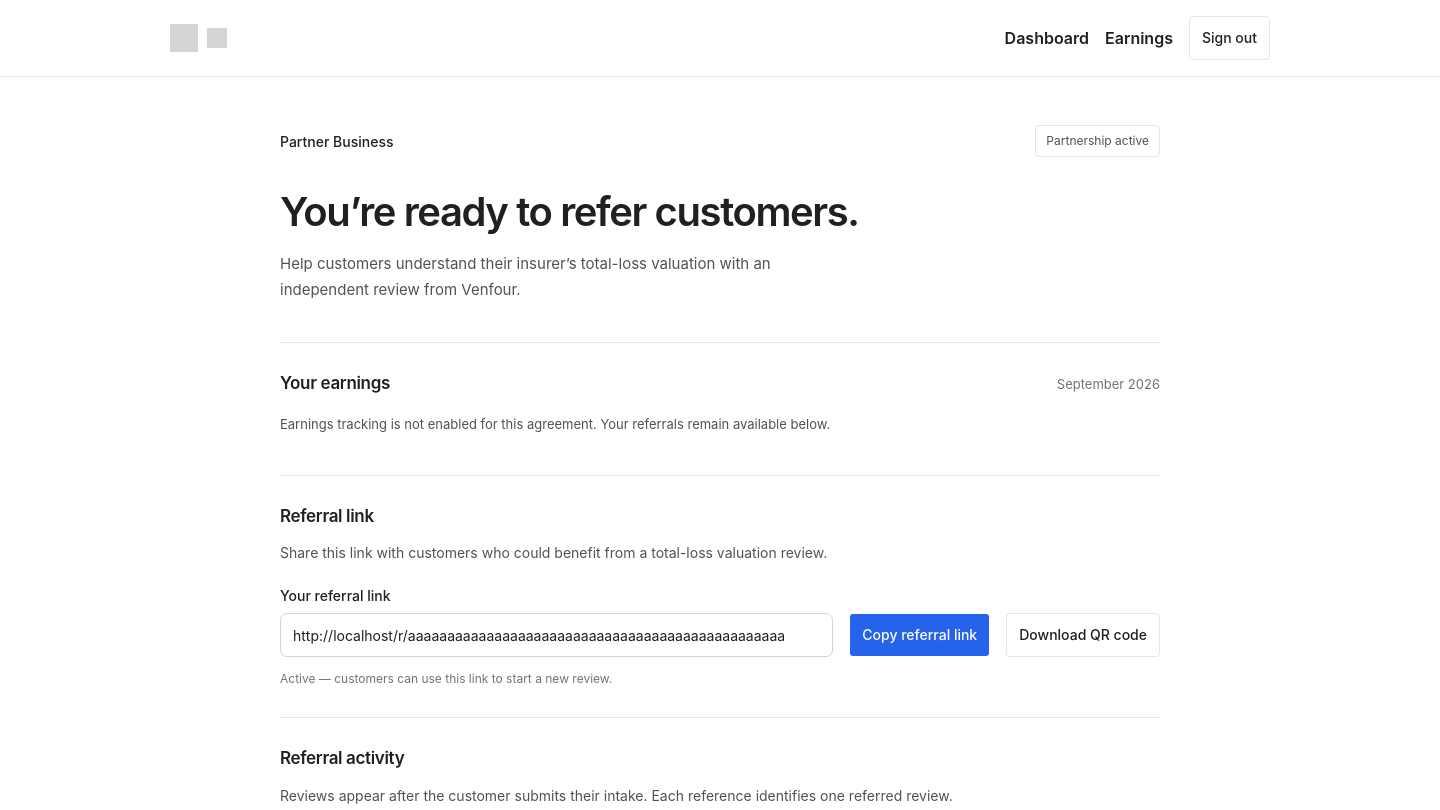
Test: partner referral dashboards › shows a copyable stable link and only opaque submitted referral information
Click the button "Copy referral link".
click(920, 635)  # box [849,613,990,657]
(page scrolled)
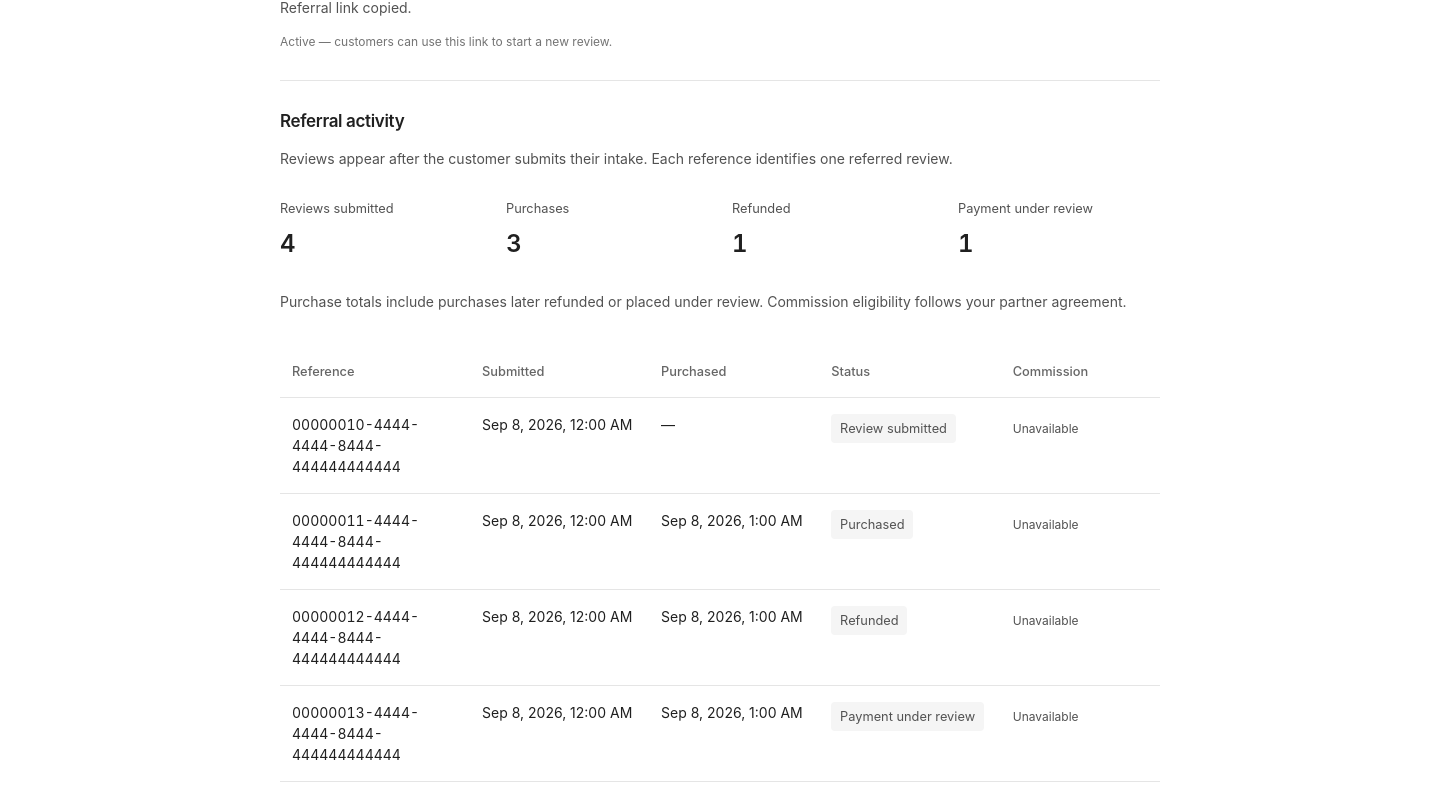
Expected: the text "Review submitted" is shown, [831,414,956,442]
Expected: the message reads "Referral link copied.", [280,0,412,16]
